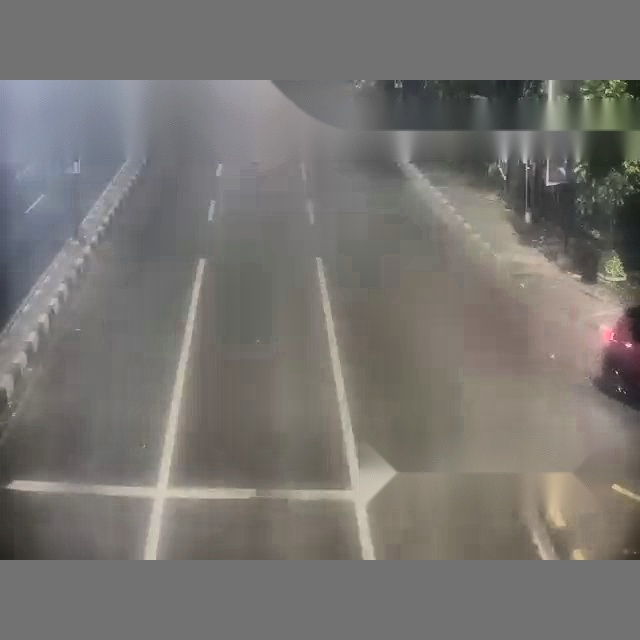Mobil: (600, 304, 640, 400)
